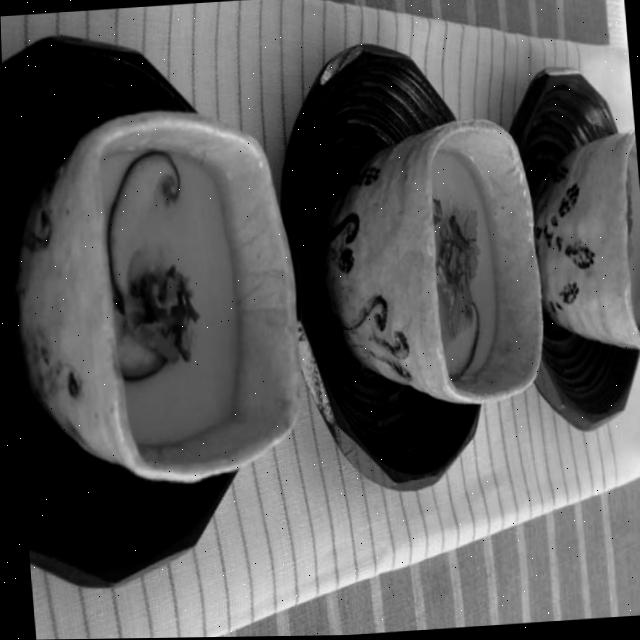鸡蛋料理: (2, 74, 300, 494)
